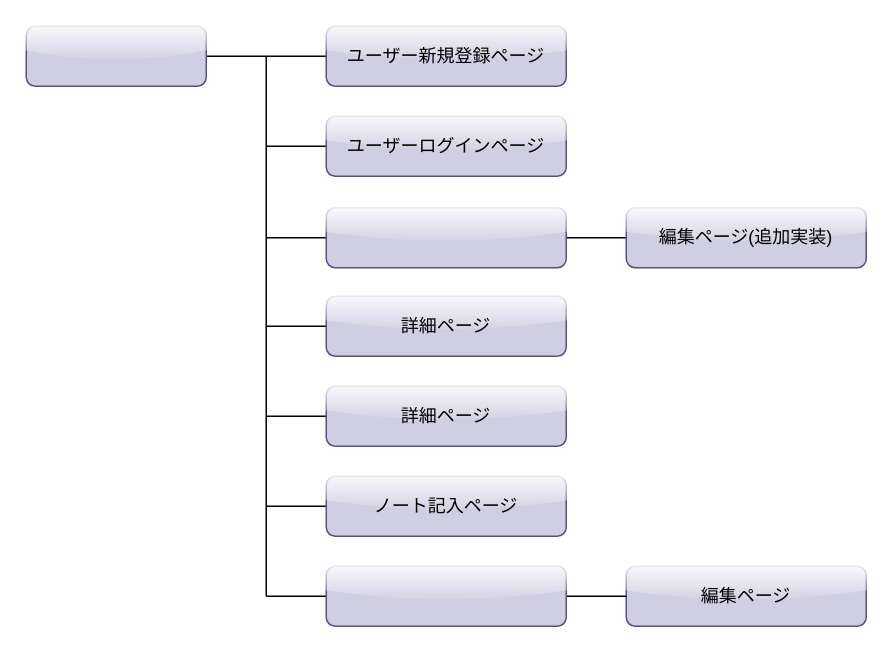
The diagram is 893 pixels wide and 653 high, and some of its shapes have lost their labels. The box of each missing label's shape, as (x1, y1, x2, y2) in pixels:
トップページ: (25, 25, 206, 86)
ユーザーマイページ: (325, 206, 566, 268)
管理者専用ページ: (325, 565, 566, 626)
